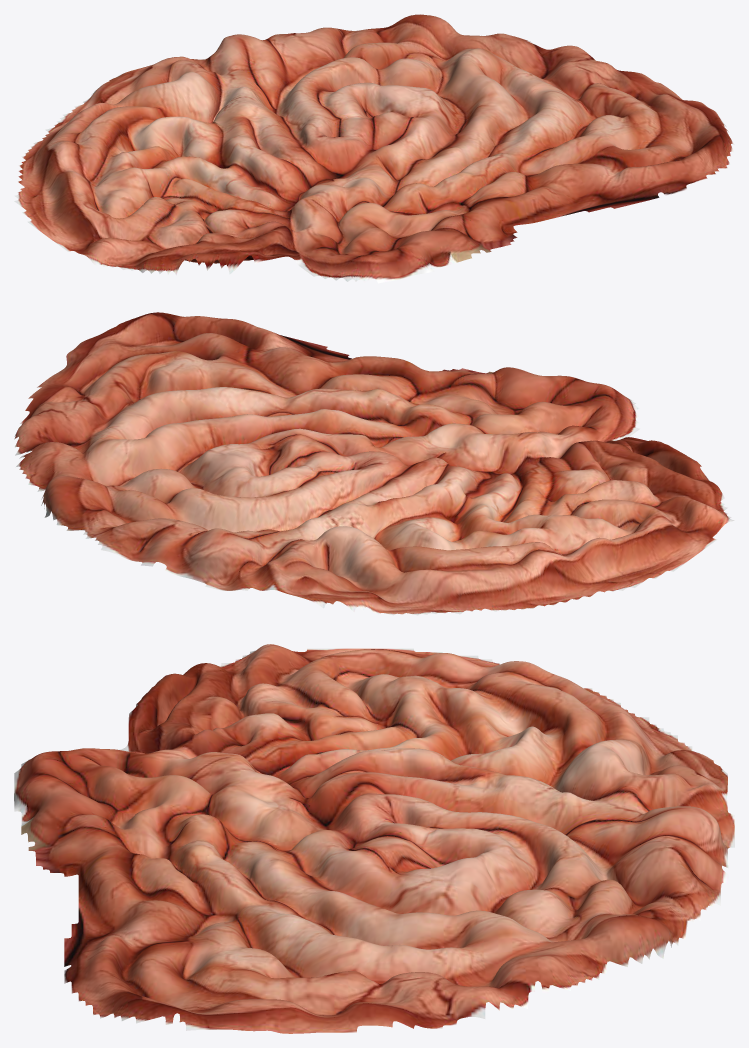
Rendered from Brain.fbx.
3 views of the same model, one above another, from view 1: azimuth 30°, elevation 25°; view 2: azimuth 150°, elevation 25°; view 3: azimuth 270°, elevation 25° (orthographic). The views are drawn at different scales.
Parts seen in each view (by area): view 1: Brain_terrain; view 2: Brain_terrain; view 3: Brain_terrain.
Part boxes in pixels (x1,y1,x2,y2): Brain_terrain: [14, 14, 734, 283]; Brain_terrain: [14, 312, 734, 615]; Brain_terrain: [14, 644, 734, 1033].
Bounding box in the file's own units: 3551 × 200 × 2738.
Materials: 1 (1 with a texture image).
